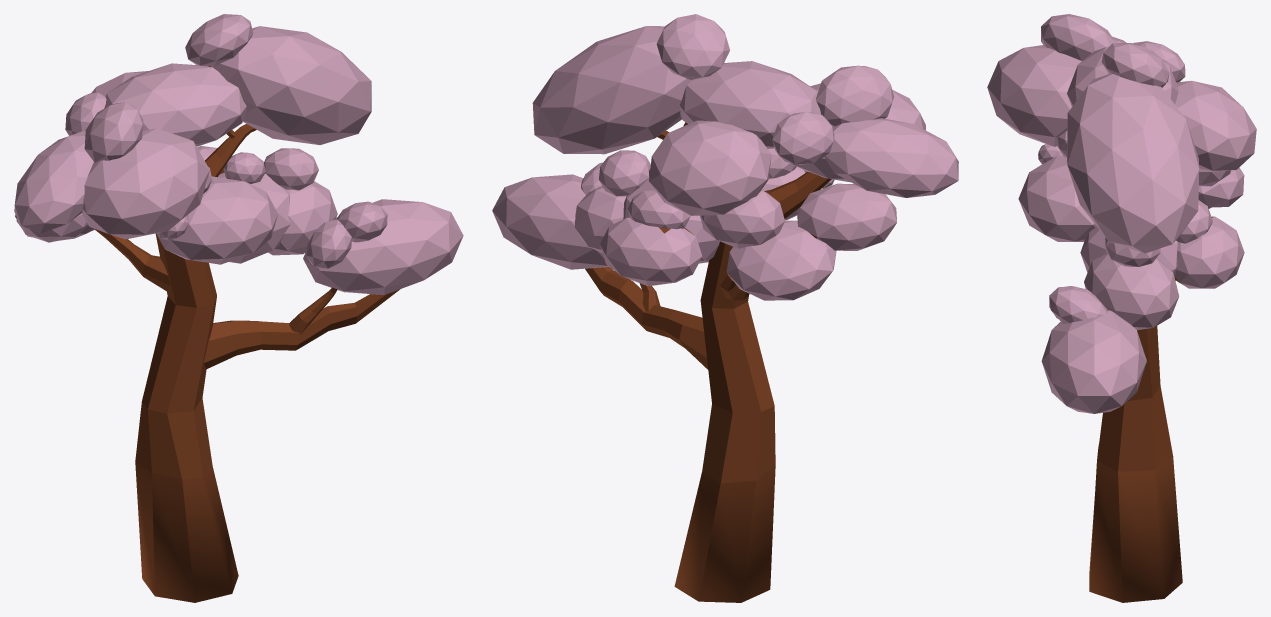
The model's file is cherry.fbx.
The picture shows the model from 3 angles, left to right: view 1: azimuth 30°, elevation 25°; view 2: azimuth 150°, elevation 25°; view 3: azimuth 270°, elevation 25°; orthographic projection.
Visible parts, largest first — view 1: Circle; view 2: Circle; view 3: Circle.
Part boxes in pixels (left/top/right/bottom): Circle: left=14, top=14, right=463, bottom=602; Circle: left=492, top=14, right=958, bottom=602; Circle: left=987, top=14, right=1256, bottom=602.
Bounding box in the file's own units: 348 × 414 × 183.
